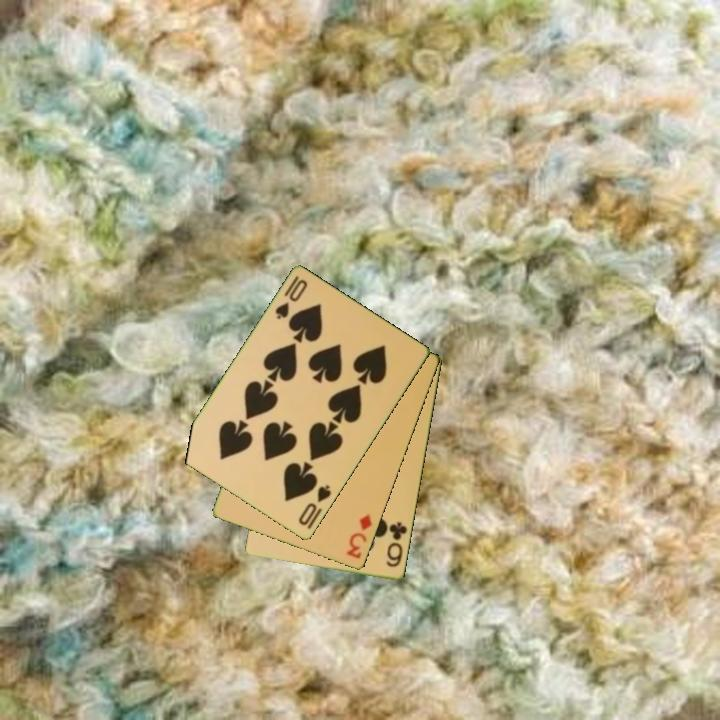10s: (271, 272, 310, 323), (295, 482, 334, 529)
3d: (343, 511, 376, 562)
6c: (383, 519, 410, 570)
